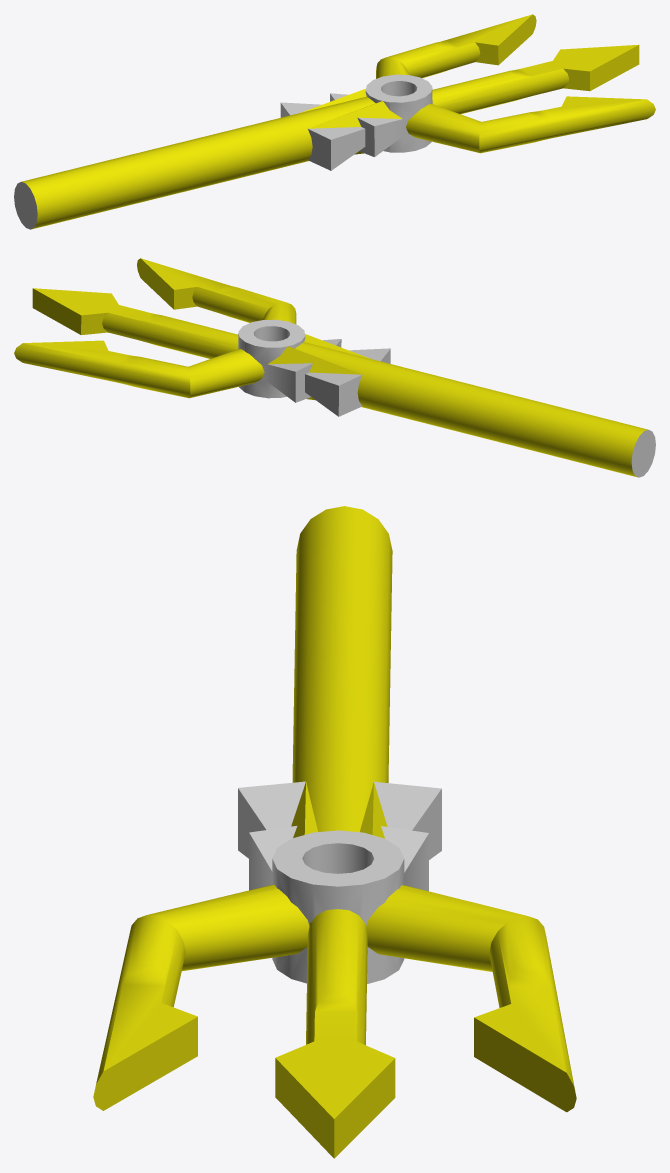
The picture shows the model from 3 angles, top to bottom: view 1: azimuth 30°, elevation 25°; view 2: azimuth 150°, elevation 25°; view 3: azimuth 270°, elevation 25°; orthographic projection. The views are drawn at different scales.
Visible parts, largest first — view 1: SOLID-WHITE_115-material.001, SOLID-WHITE_115-material.361; view 2: SOLID-WHITE_115-material.001, SOLID-WHITE_115-material.361; view 3: SOLID-WHITE_115-material.001, SOLID-WHITE_115-material.361.
Part boxes in pixels (x1=…): SOLID-WHITE_115-material.001: x1=21, y1=14, x2=655, y2=229; SOLID-WHITE_115-material.361: x1=14, y1=74, x2=432, y2=229; SOLID-WHITE_115-material.001: x1=14, y1=258, x2=647, y2=477; SOLID-WHITE_115-material.361: x1=238, y1=319, x2=655, y2=477; SOLID-WHITE_115-material.001: x1=93, y1=506, x2=576, y2=1158; SOLID-WHITE_115-material.361: x1=238, y1=781, x2=441, y2=983.
Bounding box in the file's own units: 202 × 15.96 × 69.08.
